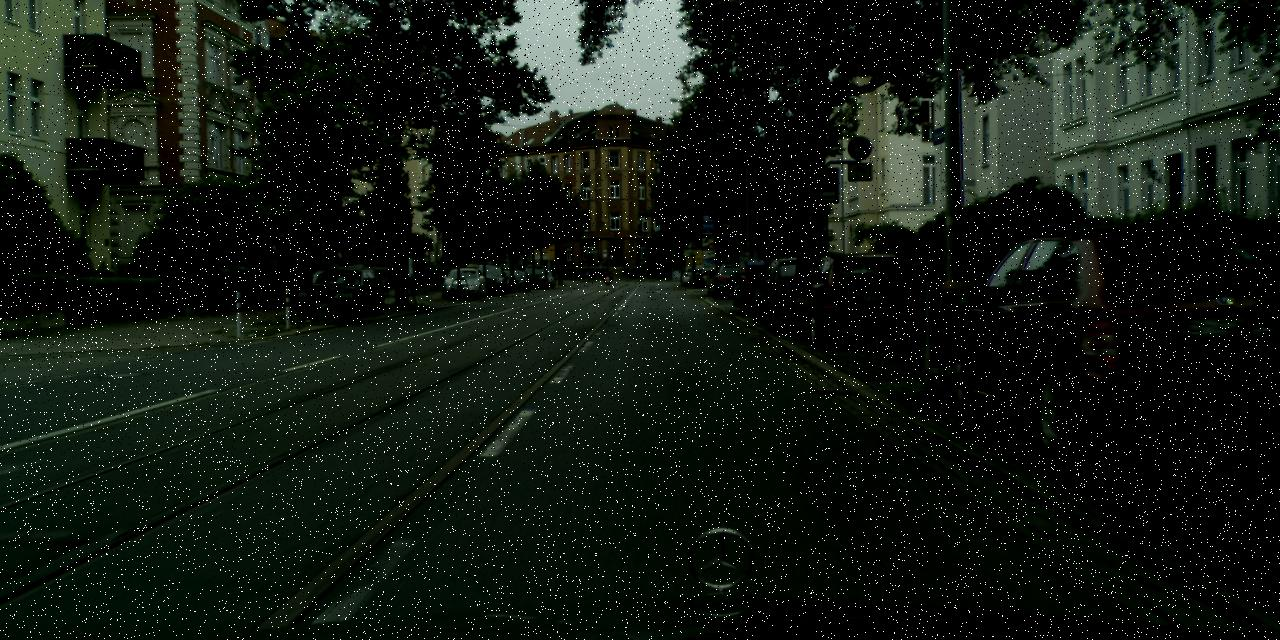ped: (604, 266, 609, 282)
